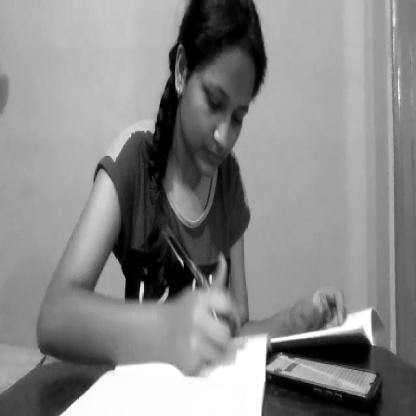Distracted: (164, 0, 271, 187)
